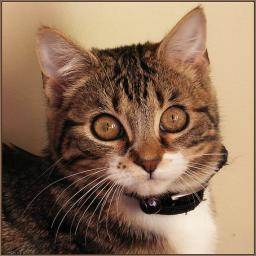catnose: (136, 159, 160, 173)
